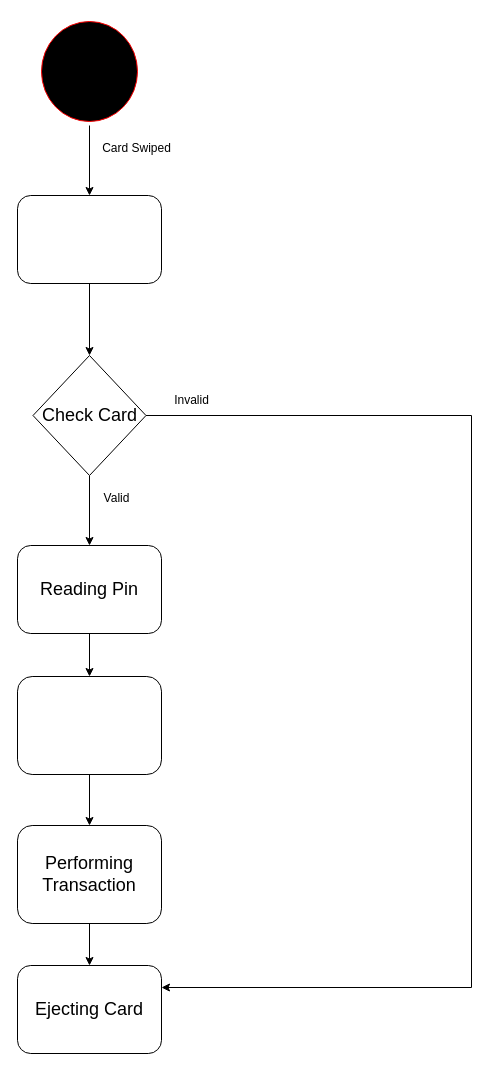
Some shapes in this 497 by 1071 pixel diagram are drawn without their labels. Each missing label, with the centre of its shape:
"Choosing Transaction" goes at point 89,725.
"Reading Card" goes at point 89,239.
